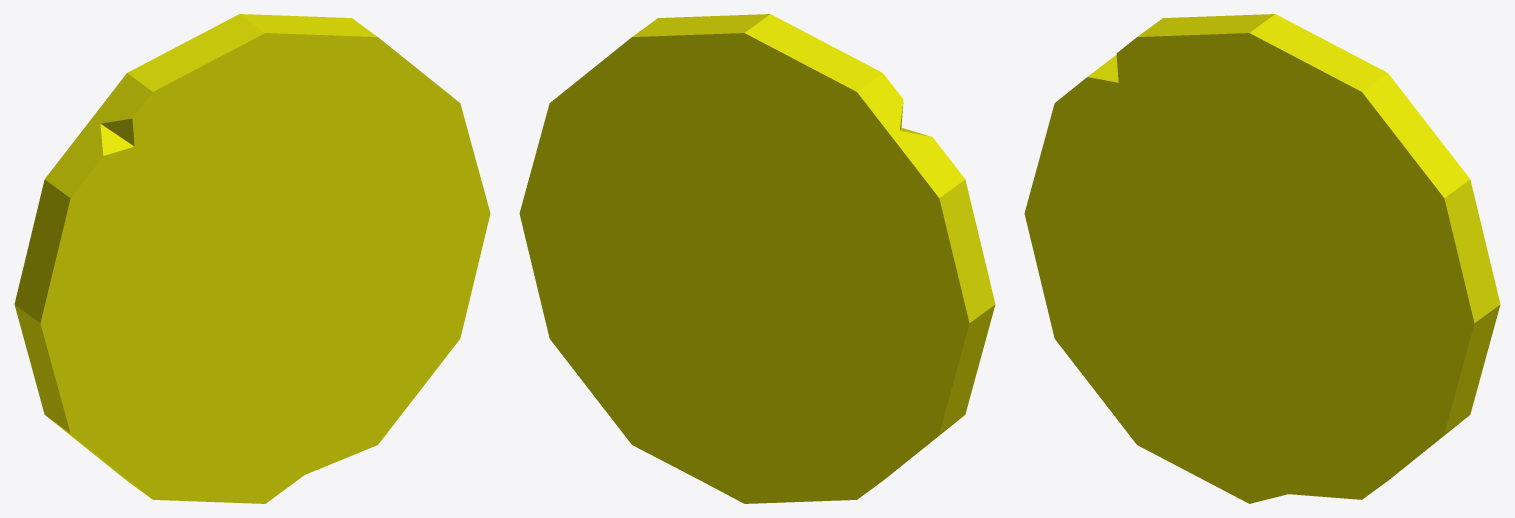
File: SM_PolygonPrototype_Prop_Target_03.glb
The picture shows the model from 3 angles, left to right: view 1: azimuth 30°, elevation 25°; view 2: azimuth 150°, elevation 25°; view 3: azimuth 330°, elevation 25°; orthographic projection.
Visible parts, largest first — view 1: SM_PolygonPrototype_Prop_Target_03; view 2: SM_PolygonPrototype_Prop_Target_03; view 3: SM_PolygonPrototype_Prop_Target_03.
Part boxes in pixels (box(x1,y1,x2,y2)): SM_PolygonPrototype_Prop_Target_03: box(14, 14, 490, 503); SM_PolygonPrototype_Prop_Target_03: box(519, 14, 995, 503); SM_PolygonPrototype_Prop_Target_03: box(1024, 14, 1500, 503).
Size of the model in its own units: 0.7175 by 0.7175 by 0.0717.
Materials: 1 (1 with a texture image).
